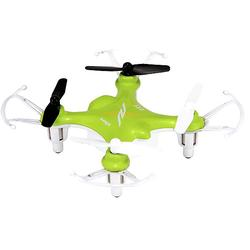drone: (1, 48, 245, 201)
